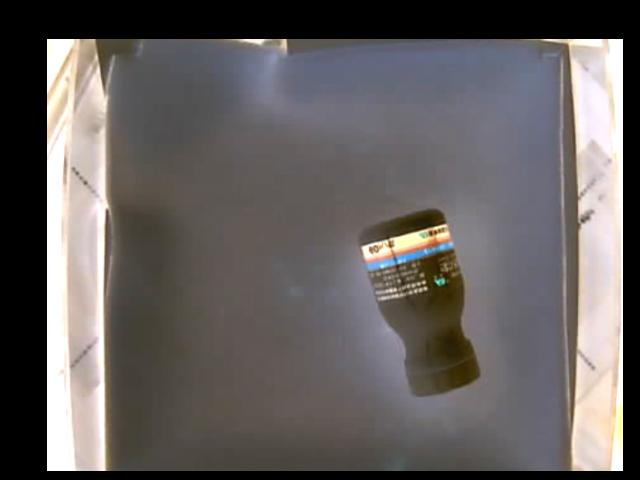Bottle: (360, 209, 479, 394)
